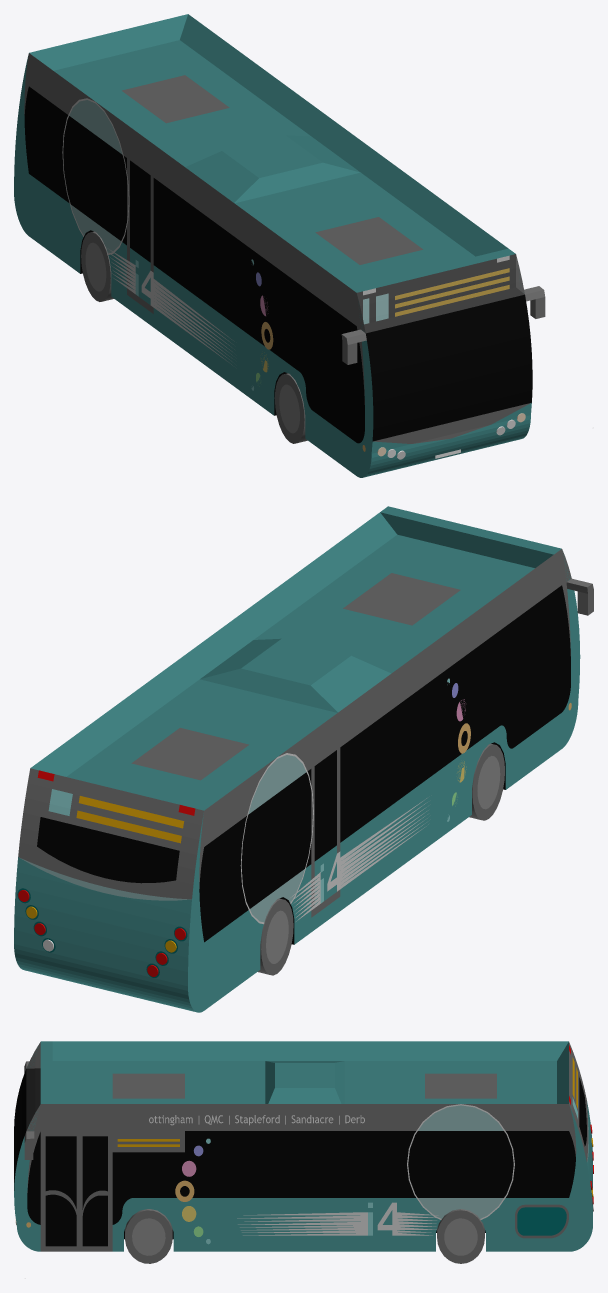
File: optare-tempo-sr.dae
3 views of the same model, one above another, from view 1: azimuth 30°, elevation 25°; view 2: azimuth 150°, elevation 25°; view 3: azimuth 270°, elevation 25° (orthographic). The views are drawn at different scales.
Visible parts, largest first — view 1: SketchUp_003, SketchUp_011, SketchUp_115, SketchUp_004, SketchUp, SketchUp_173, SketchUp_144, SketchUp_009, SketchUp_007, SketchUp_023, SketchUp_025, SketchUp_089 (+11 smaller); view 2: SketchUp_003, SketchUp_115, SketchUp_009, SketchUp_004, SketchUp, SketchUp_020, SketchUp_144, SketchUp_028, SketchUp_007, SketchUp_023, SketchUp_025, SketchUp_127 (+13 smaller); view 3: SketchUp_003, SketchUp_022, SketchUp_001, SketchUp_016, SketchUp_024, SketchUp_009, SketchUp_015, SketchUp_006, SketchUp_073, SketchUp_023, SketchUp_123, SketchUp_025 (+19 smaller).
Boxes of the visible parts, x1,y1,x2,y2 form: SketchUp_003: [29, 14, 515, 292]; SketchUp_011: [357, 254, 532, 441]; SketchUp_115: [153, 178, 364, 443]; SketchUp_004: [111, 265, 531, 477]; SketchUp: [96, 102, 356, 325]; SketchUp_173: [357, 254, 524, 332]; SketchUp_144: [63, 116, 126, 240]; SketchUp_009: [14, 55, 83, 273]; SketchUp_007: [24, 86, 69, 203]; SketchUp_023: [315, 217, 422, 264]; SketchUp_025: [122, 75, 229, 123]; SketchUp_089: [141, 270, 234, 365]; SketchUp_003: [30, 506, 561, 810]; SketchUp_115: [340, 585, 570, 842]; SketchUp_009: [14, 813, 263, 1012]; SketchUp_004: [294, 589, 580, 944]; SketchUp: [278, 549, 561, 879]; SketchUp_020: [18, 768, 203, 899]; SketchUp_144: [241, 772, 311, 908]; SketchUp_028: [37, 817, 179, 883]; SketchUp_007: [199, 816, 248, 942]; SketchUp_023: [343, 573, 460, 625]; SketchUp_025: [131, 728, 248, 780]; SketchUp_127: [314, 750, 336, 861]; SketchUp_003: [40, 1041, 568, 1103]; SketchUp_022: [112, 1131, 415, 1224]; SketchUp_001: [40, 1104, 459, 1251]; SketchUp_016: [112, 1198, 435, 1251]; SketchUp_024: [408, 1131, 513, 1197]; SketchUp_009: [481, 1101, 592, 1251]; SketchUp_015: [506, 1131, 575, 1197]; SketchUp_006: [462, 1104, 576, 1156]; SketchUp_073: [237, 1212, 367, 1235]; SketchUp_023: [112, 1073, 184, 1098]; SketchUp_123: [45, 1136, 76, 1208]; SketchUp_025: [425, 1073, 496, 1098].
Bounding box in the file's own units: 2.87 × 7.25 × 2.21.
